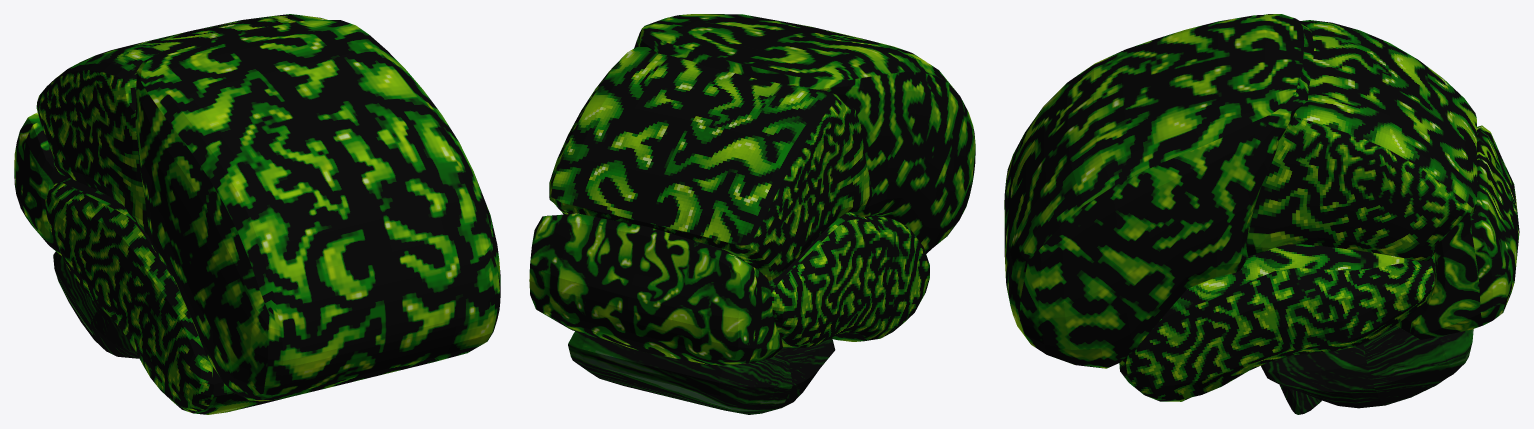
Rendered from BossT.fbx.
3 views of the same model, side by side, from view 1: azimuth 30°, elevation 25°; view 2: azimuth 150°, elevation 25°; view 3: azimuth 270°, elevation 25° (orthographic). The views are drawn at different scales.
Visible parts, largest first — view 1: frontal.001, Temporal.001, parietal.001, Occipital.001, Cerebelo.001; view 2: parietal.001, frontal.001, Occipital.001, Temporal.001, Cerebelo.001; view 3: frontal.001, parietal.001, Temporal.001, Occipital.001, Cerebelo.001.
Boxes of the visible parts, bbox=[...] form: frontal.001: bbox=[135, 20, 500, 401]; Temporal.001: bbox=[45, 177, 289, 414]; parietal.001: bbox=[36, 14, 327, 234]; Occipital.001: bbox=[14, 112, 67, 255]; Cerebelo.001: bbox=[53, 251, 139, 358]; parietal.001: bbox=[549, 47, 872, 280]; frontal.001: bbox=[634, 14, 975, 253]; Occipital.001: bbox=[529, 213, 782, 366]; Temporal.001: bbox=[768, 212, 929, 348]; Cerebelo.001: bbox=[568, 331, 835, 414]; frontal.001: bbox=[1004, 14, 1314, 368]; parietal.001: bbox=[1246, 20, 1477, 260]; Temporal.001: bbox=[1119, 244, 1435, 401]; Occipital.001: bbox=[1396, 125, 1519, 339]; Cerebelo.001: bbox=[1261, 325, 1473, 414].
Bounding box in the file's own units: 267 × 336 × 449.
Materials: 5 (5 with a texture image).
